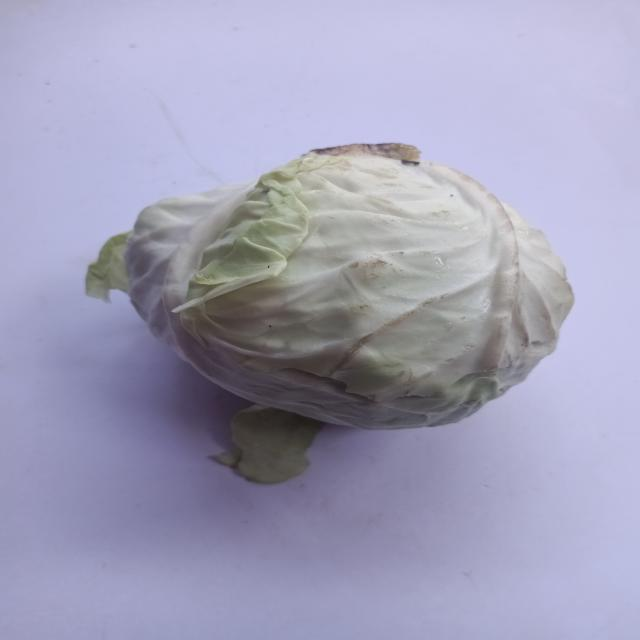Cabbage: (94, 140, 580, 508)
